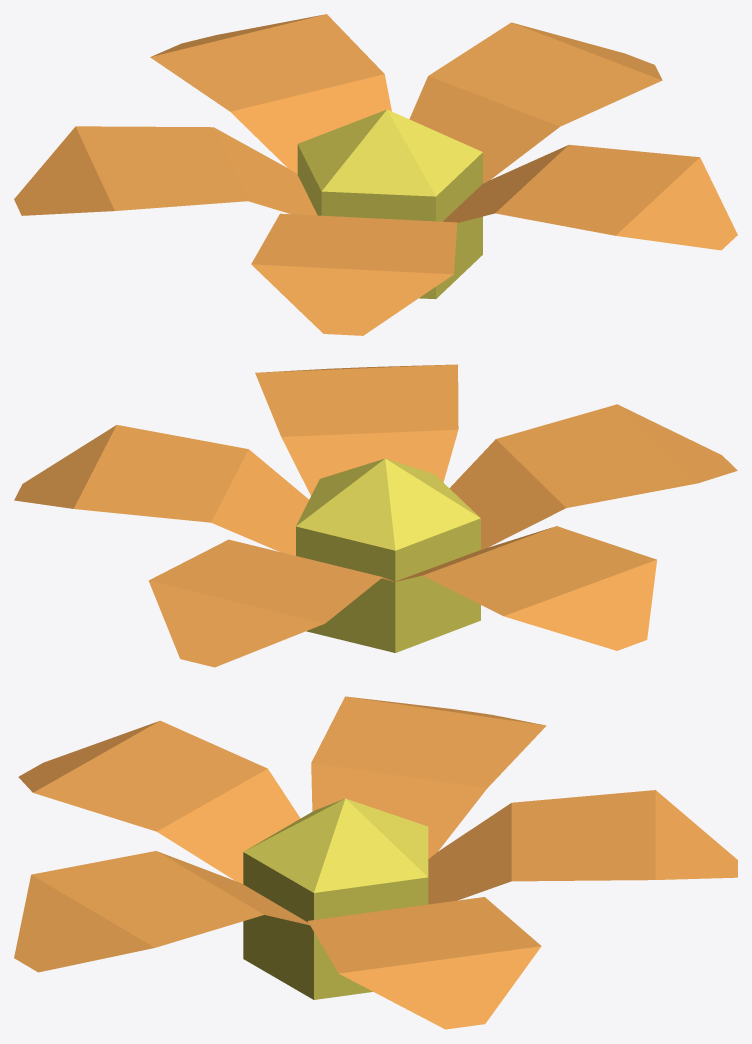
File: Flower_Orange_4.fbx
3 renders of one model, top to bottom at view 1: azimuth 30°, elevation 25°; view 2: azimuth 150°, elevation 25°; view 3: azimuth 270°, elevation 25°, orthographic. The views are drawn at different scales.
Parts seen in each view (by area): view 1: Flower_Orange_4; view 2: Flower_Orange_4; view 3: Flower_Orange_4.
Boxes of the visible parts, x1,y1,x2,y2 form: Flower_Orange_4: (14, 14, 737, 335); Flower_Orange_4: (14, 364, 737, 667); Flower_Orange_4: (14, 696, 737, 1029).
Bounding box in the file's own units: 34.6 × 8.08 × 33.04.
